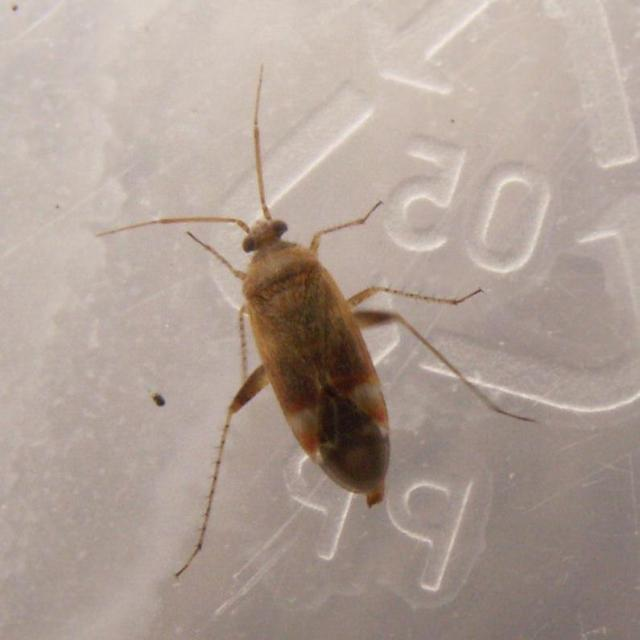Miridae-Adult-: (97, 59, 539, 584)
